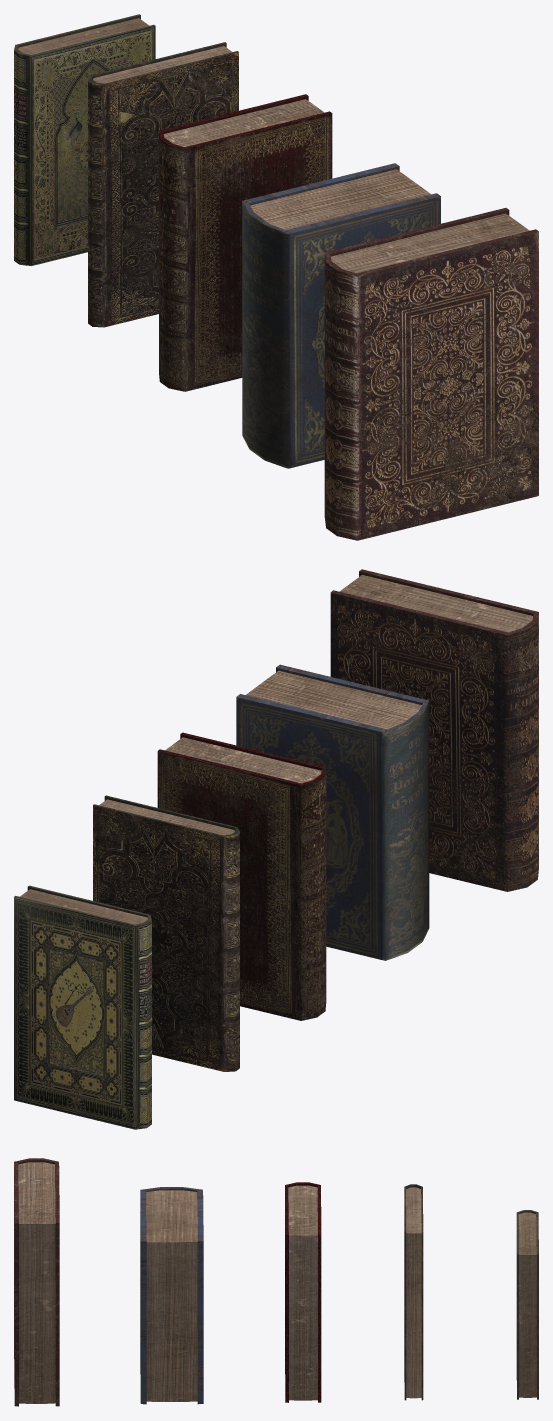
File: books.glb
3 renders of one model, top to bottom at view 1: azimuth 30°, elevation 25°; view 2: azimuth 150°, elevation 25°; view 3: azimuth 270°, elevation 25°, orthographic. The views are drawn at different scales.
Parts seen in each view (by area): view 1: Object006_Object006_mtl_0, Object007_Object007_mtl_0, Object002_Object002_mtl_0, Object005_Object005_mtl_0, Object003_Object003_mtl_0, Object004_Object004_mtl_0, Object001_Object001_mtl_0; view 2: Object006_Object006_mtl_0, Object007_Object007_mtl_0, Object005_Object005_mtl_0, Object002_Object002_mtl_0, Object004_Object004_mtl_0, Object003_Object003_mtl_0, Object001_Object001_mtl_0; view 3: Object003_Object003_mtl_0, Object007_Object007_mtl_0, Object001_Object001_mtl_0, Object005_Object005_mtl_0, Object006_Object006_mtl_0.
Boxes of the visible parts, bbox=[...] form: Object006_Object006_mtl_0: bbox=[14, 14, 535, 540]; Object007_Object007_mtl_0: bbox=[159, 114, 538, 496]; Object002_Object002_mtl_0: bbox=[88, 52, 238, 327]; Object005_Object005_mtl_0: bbox=[14, 18, 244, 438]; Object003_Object003_mtl_0: bbox=[88, 42, 440, 466]; Object004_Object004_mtl_0: bbox=[281, 196, 440, 468]; Object001_Object001_mtl_0: bbox=[159, 94, 332, 178]; Object006_Object006_mtl_0: bbox=[14, 593, 538, 925]; Object007_Object007_mtl_0: bbox=[160, 569, 538, 1020]; Object005_Object005_mtl_0: bbox=[14, 730, 391, 1129]; Object002_Object002_mtl_0: bbox=[93, 805, 239, 1071]; Object004_Object004_mtl_0: bbox=[236, 697, 429, 960]; Object003_Object003_mtl_0: bbox=[93, 664, 428, 958]; Object001_Object001_mtl_0: bbox=[157, 732, 326, 808]; Object003_Object003_mtl_0: bbox=[140, 1184, 423, 1404]; Object007_Object007_mtl_0: bbox=[14, 1158, 285, 1406]; Object001_Object001_mtl_0: bbox=[285, 1182, 321, 1402]; Object005_Object005_mtl_0: bbox=[516, 1212, 536, 1397]; Object006_Object006_mtl_0: bbox=[14, 1176, 538, 1399].
Bounding box in the file's own units: 0.9707 × 1.28 × 3.32.
Materials: 7 (7 with a texture image).
